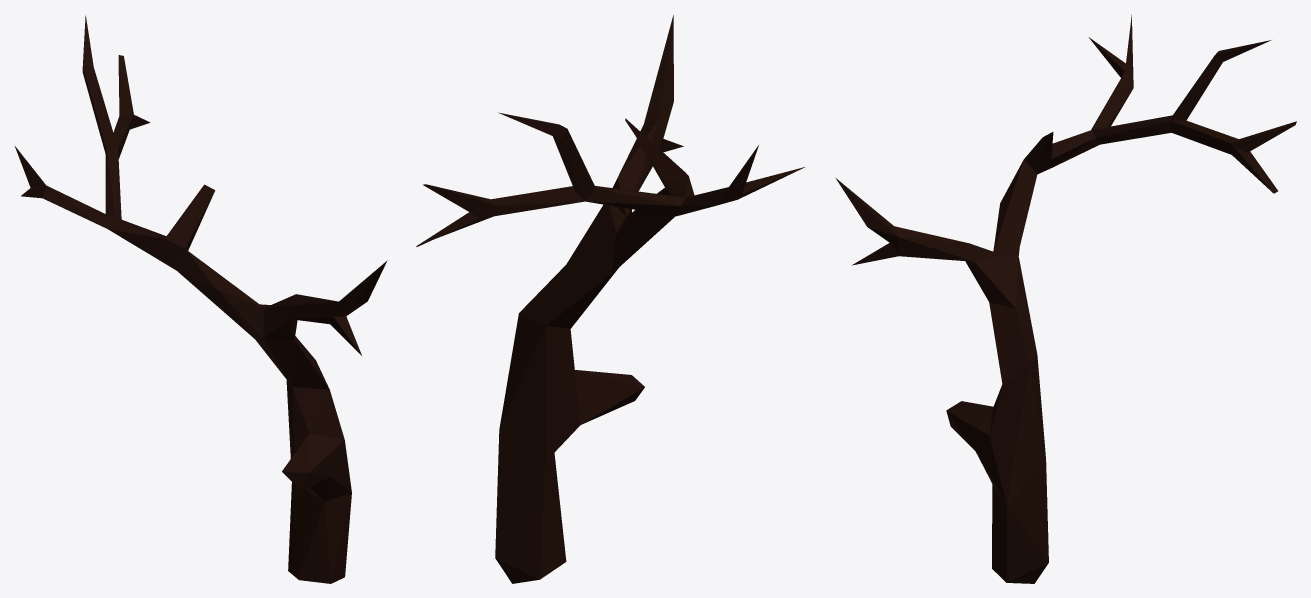
The model's file is TwigTree3.fbx.glb.
3 views of the same model, side by side, from view 1: azimuth 30°, elevation 25°; view 2: azimuth 150°, elevation 25°; view 3: azimuth 270°, elevation 25° (orthographic). The views are drawn at different scales.
Visible parts, largest first — view 1: TwigTree3; view 2: TwigTree3; view 3: TwigTree3.
Part boxes in pixels (left/top/right/bottom): TwigTree3: left=15, top=15, right=387, bottom=583; TwigTree3: left=416, top=15, right=804, bottom=583; TwigTree3: left=835, top=14, right=1296, bottom=583.
Size of the model in its own units: 114 by 189 by 161.
